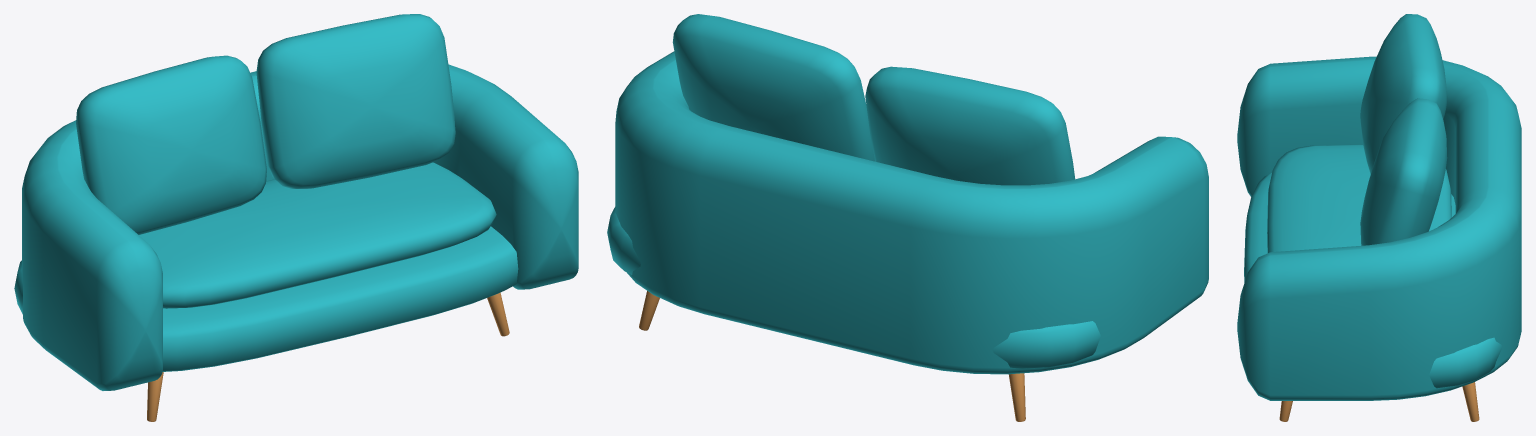
File: namoradeira_curva_turquesa.glb
The picture shows the model from 3 angles, left to right: view 1: azimuth 30°, elevation 25°; view 2: azimuth 150°, elevation 25°; view 3: azimuth 270°, elevation 25°; orthographic projection. The views are drawn at different scales.
Visible parts, largest first — view 1: namoradeira_curva_turquesa; view 2: namoradeira_curva_turquesa; view 3: namoradeira_curva_turquesa.
Boxes of the visible parts, <box> form: namoradeira_curva_turquesa: <box>14,14,578,421</box>; namoradeira_curva_turquesa: <box>607,14,1208,421</box>; namoradeira_curva_turquesa: <box>1237,14,1521,421</box>.
Bounding box in the file's own units: 1.55 × 0.8591 × 0.8597.
1 material, 1 textured.
